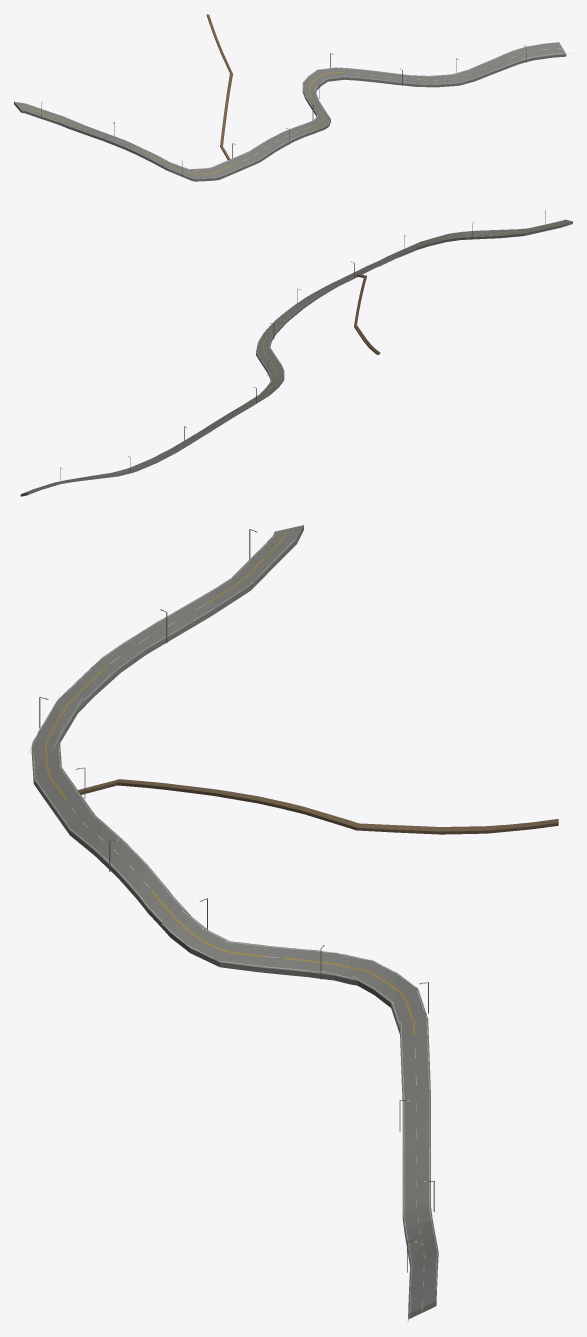
3 views of the same model, one above another, from view 1: azimuth 30°, elevation 25°; view 2: azimuth 210°, elevation 25°; view 3: azimuth 270°, elevation 25° (orthographic). The views are drawn at different scales.
Size of the model in its own units: 297 by 58.87 by 116.
